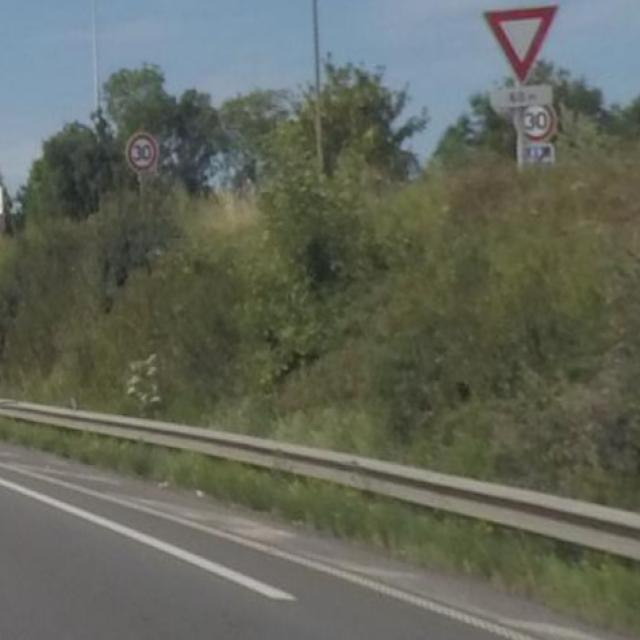speed_30: (520, 102, 556, 141)
